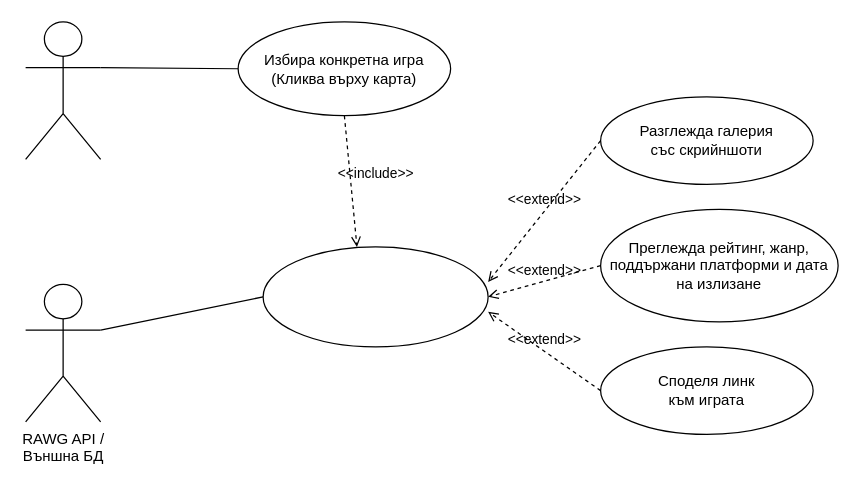
The diagram is 860 pixels wide and 489 high, and some of its shapes have lost their labels. The centre of each missing label's shape, as x and y in pixels:
Потребител: the point at 62,90
Преглежда детайлно описание на играта: the point at 375,296
